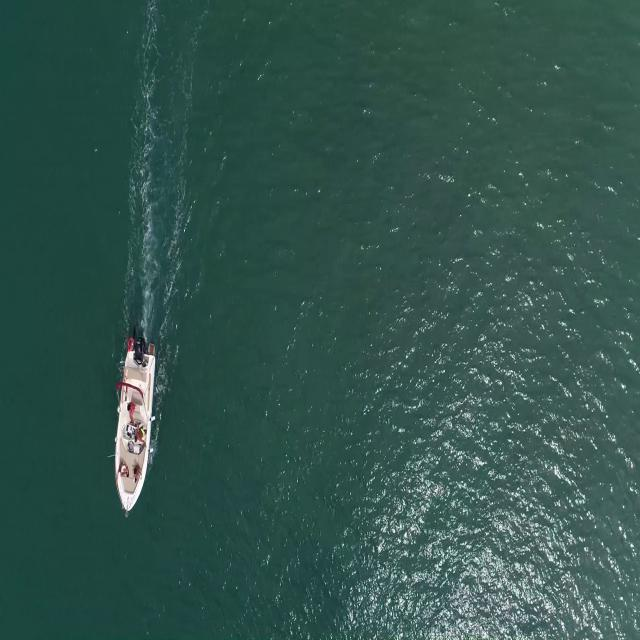boat: (113, 352, 156, 518)
life_buoy: (126, 338, 135, 350)
person: (133, 427, 149, 449), (116, 460, 129, 485), (126, 399, 136, 423), (133, 465, 142, 483)
